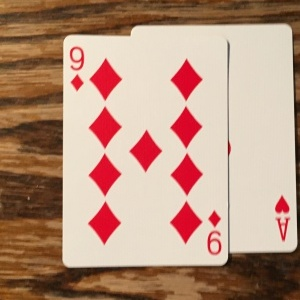card: (63, 35, 229, 265), (224, 27, 299, 253)
